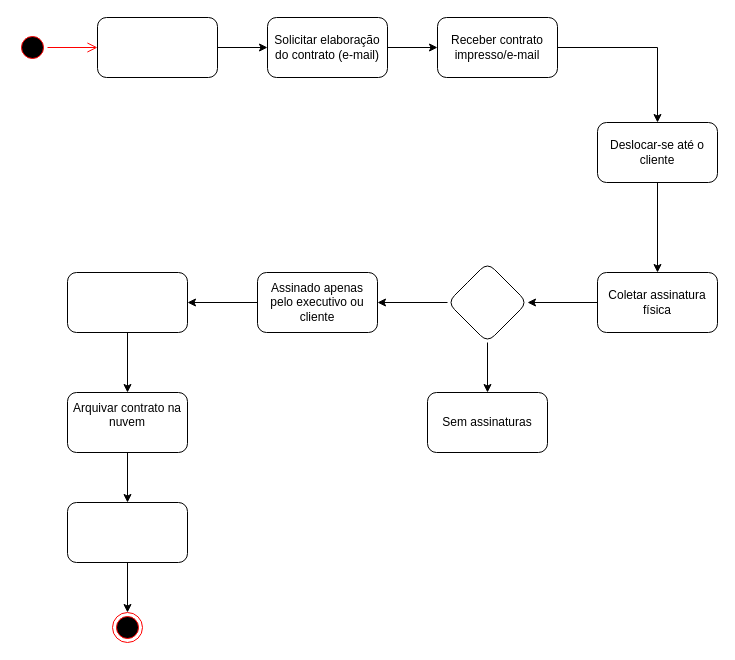
This 735x660 diagram has some shape labels left out. The box of each missing label's shape, as (x1, y1, x2, y2) in pixels:
Arquivamento sem validação: (66, 502, 188, 562)
Identificar necessidade: (96, 16, 218, 78)
Receber contrato: (66, 272, 188, 332)
